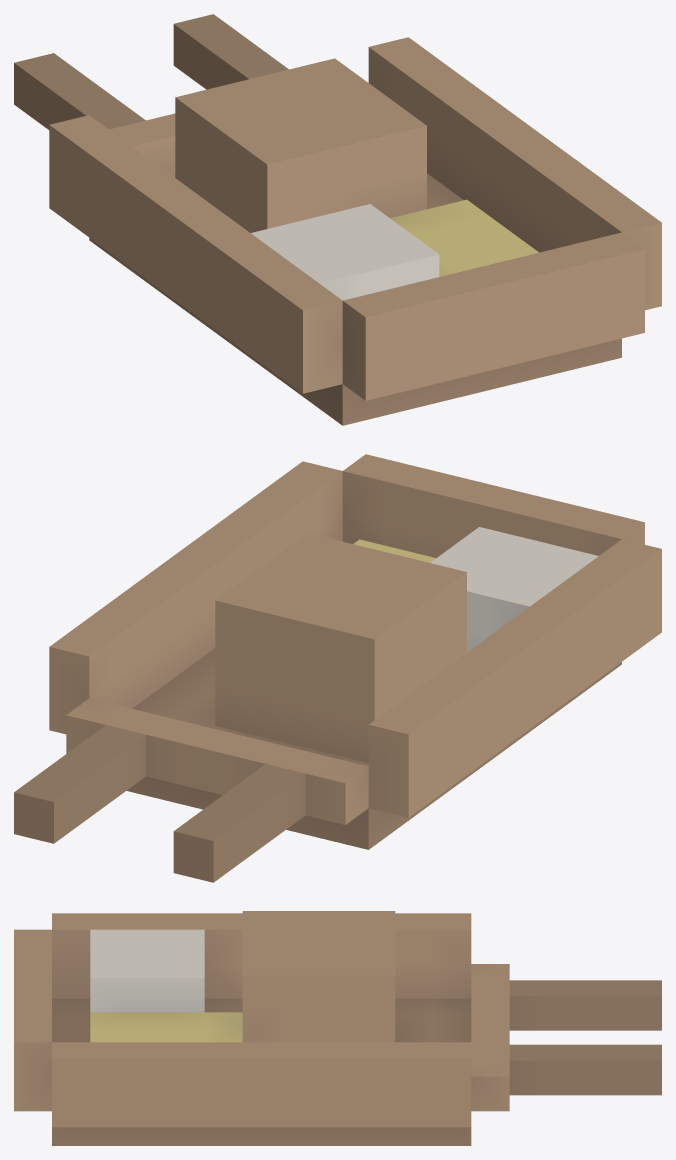
Rendered from life_cart.glb.
3 views of the same model, one above another, from view 1: azimuth 30°, elevation 25°; view 2: azimuth 150°, elevation 25°; view 3: azimuth 270°, elevation 25° (orthographic). The views are drawn at different scales.
Parts seen in each view (by area): view 1: life_cart; view 2: life_cart; view 3: life_cart.
Part boxes in pixels (left/top/right/bottom): life_cart: left=14, top=14, right=661, bottom=425; life_cart: left=14, top=454, right=661, bottom=882; life_cart: left=14, top=911, right=661, bottom=1145.
Size of the model in its own units: 0.5625 by 0.25 by 1.06.
